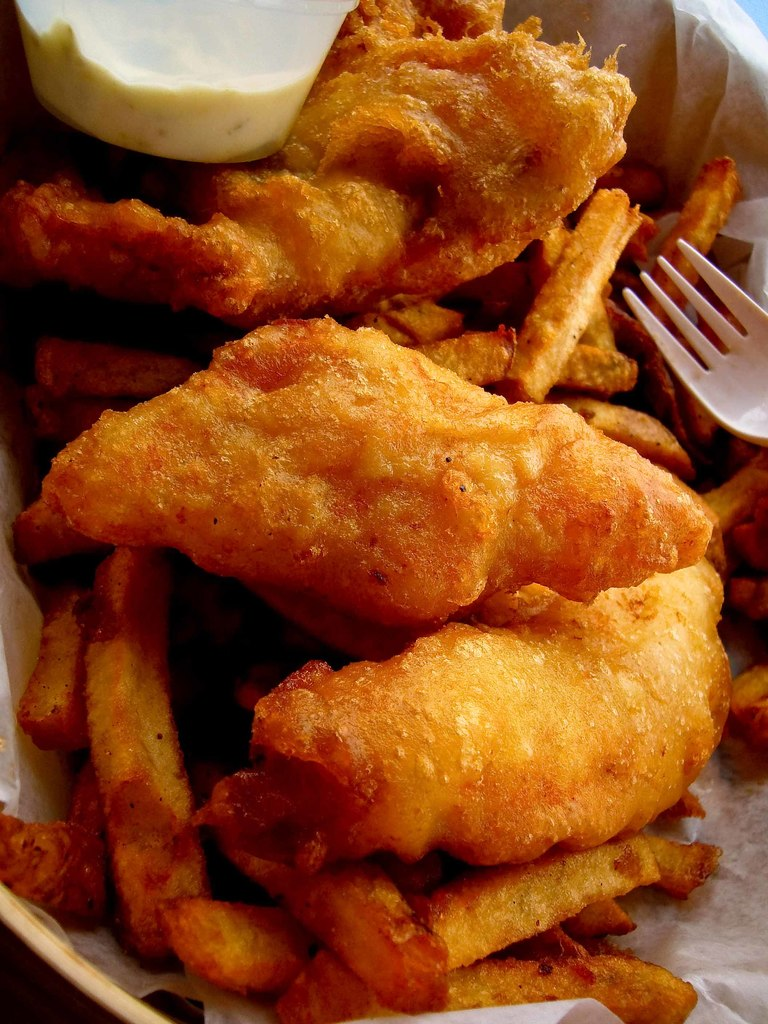French fries: (463, 185, 681, 400)
